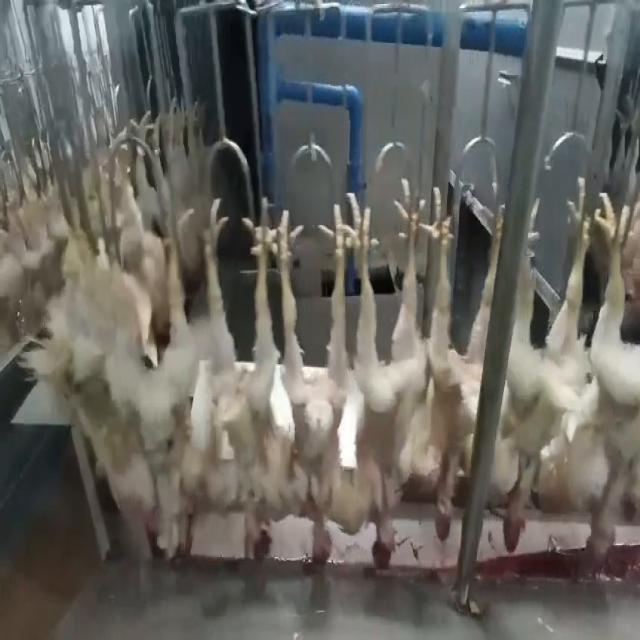chicken: (498, 182, 594, 552), (343, 172, 426, 578), (418, 191, 512, 543), (194, 200, 278, 572), (117, 196, 196, 576), (269, 208, 344, 580), (578, 192, 639, 572)
